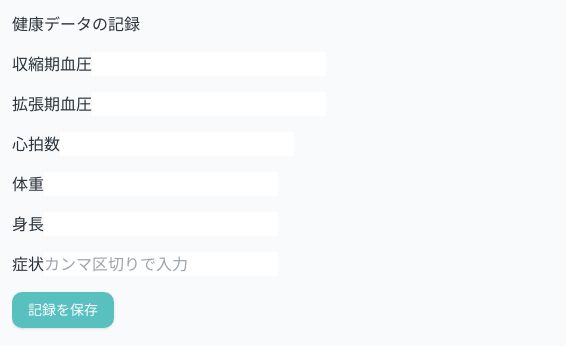
HealthForm Component › validates required fields
Click the button "記録を保存". click: (63, 310)
box: [12,292,114,328]
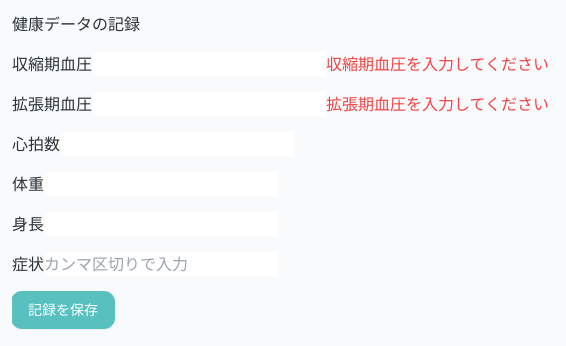
Now the text "収縮期血圧を入力してください" is shown, box [326,54,549,74]
